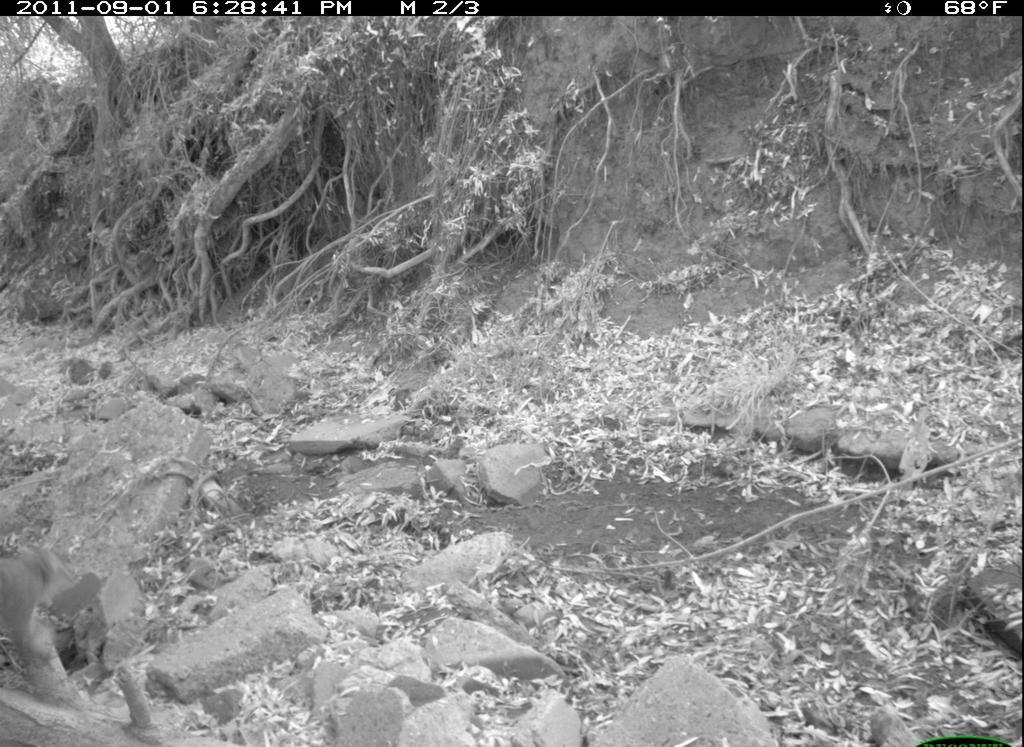squirrel: (1, 535, 69, 677)
